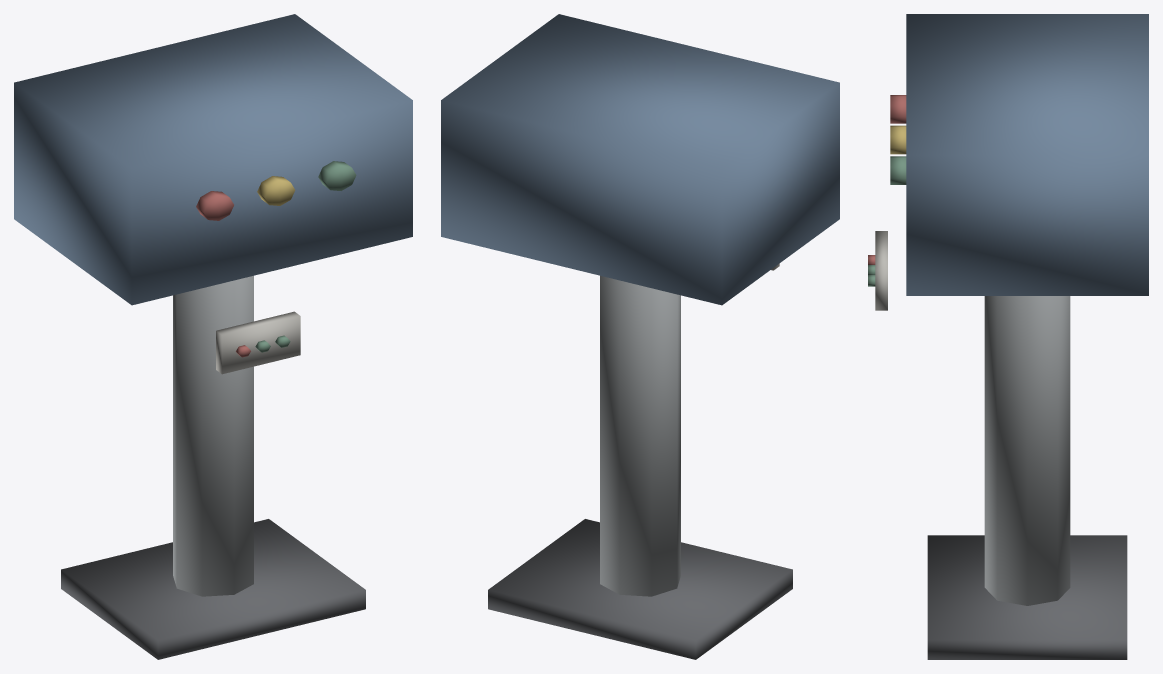
File: pedestal_machine_control__squat.glb
3 views of the same model, side by side, from view 1: azimuth 30°, elevation 25°; view 2: azimuth 150°, elevation 25°; view 3: azimuth 270°, elevation 25° (orthographic). The views are drawn at different scales.
Parts seen in each view (by area): view 1: world; view 2: world; view 3: world.
Boxes of the visible parts, x1=… form: world: x1=14, y1=14, x2=412, y2=659; world: x1=441, y1=14, x2=839, y2=659; world: x1=868, y1=14, x2=1148, y2=659.
Size of the model in its own units: 0.506 by 0.8736 by 0.425.
